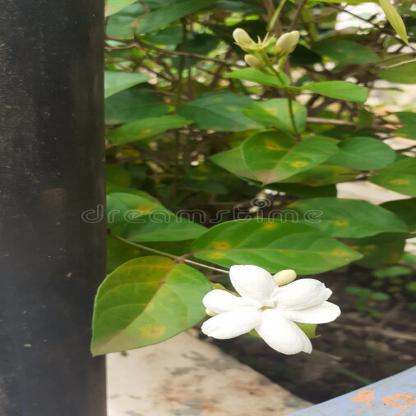Melati: (202, 254, 349, 372), (212, 19, 324, 89)
